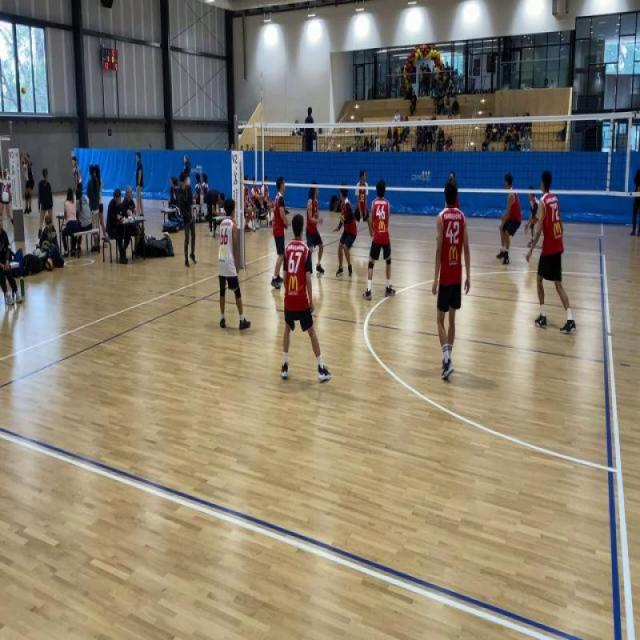volleyball: (45, 257, 54, 271), (396, 126, 404, 136), (21, 86, 26, 95), (163, 231, 169, 238), (147, 233, 153, 240)
